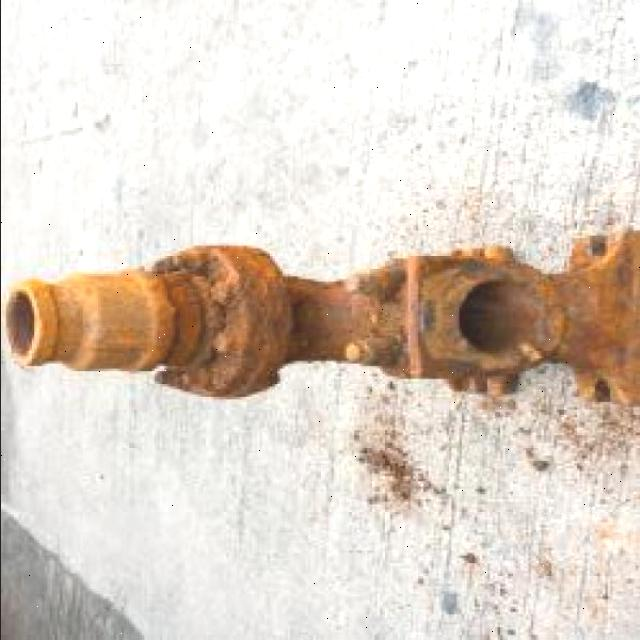corrosion: (4, 226, 639, 408)
